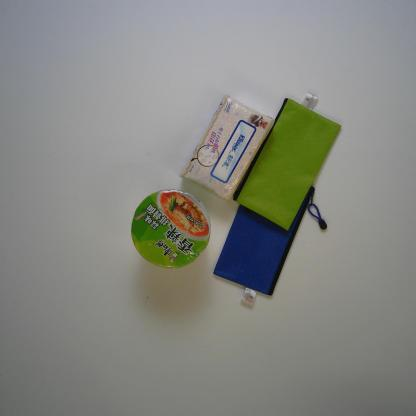Instant Noodles: (131, 189, 212, 269)
Stationery: (233, 92, 342, 233), (212, 180, 328, 307)
Tissue: (178, 94, 274, 204)
